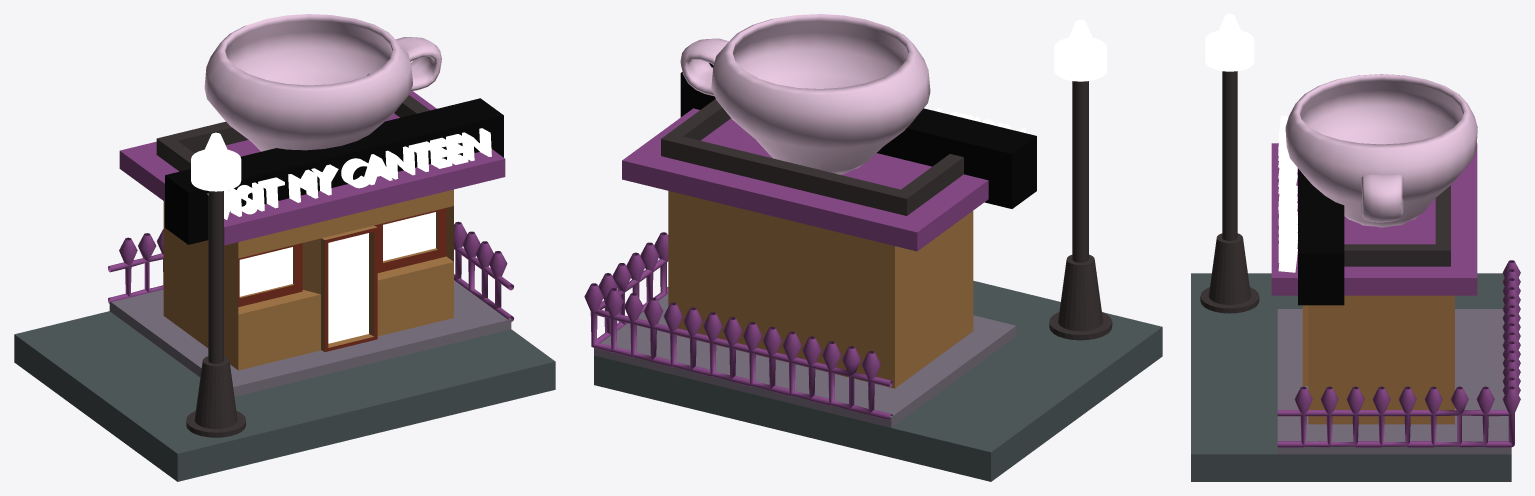
The model's file is canteenShow.gltf.
3 views of the same model, side by side, from view 1: azimuth 30°, elevation 25°; view 2: azimuth 150°, elevation 25°; view 3: azimuth 270°, elevation 25° (orthographic). The views are drawn at different scales.
Parts seen in each view (by area): view 1: Plane, Plane.003, Circle, Cube, Plane.002, Plane.004, Plane.008, Text, Plane.007, Plane.006, Circle.001; view 2: Plane.003, Plane, Circle, Plane.004, Plane.007, Plane.002, Plane.006, Plane.008, Cube, Circle.001; view 3: Plane, Circle, Plane.003, Plane.002, Plane.004, Plane.007, Plane.008, Cube, Plane.006, Text, Circle.001.
Boxes of the visible parts, box(x1,y1,x2,y2) form: Plane: box(14, 311, 555, 481); Plane.003: box(163, 189, 453, 370); Circle: box(204, 14, 412, 151); Cube: box(165, 98, 503, 244); Plane.002: box(109, 280, 511, 396); Plane.004: box(119, 91, 505, 245); Plane.008: box(186, 132, 245, 437); Text: box(207, 128, 491, 219); Plane.007: box(108, 221, 513, 321); Plane.006: box(156, 95, 429, 171); Circle.001: box(367, 37, 441, 91); Plane.003: box(668, 191, 973, 388); Plane: box(594, 280, 1162, 481); Circle: box(711, 14, 930, 174); Plane.004: box(622, 108, 988, 251); Plane.007: box(584, 232, 892, 420); Plane.002: box(594, 294, 1016, 427); Plane.006: box(661, 99, 963, 215); Plane.008: box(1049, 20, 1112, 340); Cube: box(680, 63, 1036, 208); Circle.001: box(680, 38, 757, 96); Plane: box(1191, 273, 1511, 481); Circle: box(1285, 74, 1477, 227); Plane.003: box(1302, 295, 1454, 424); Plane.002: box(1277, 309, 1511, 454); Plane.004: box(1271, 143, 1477, 295); Plane.007: box(1277, 260, 1520, 447); Plane.008: box(1200, 14, 1259, 313); Cube: box(1298, 168, 1344, 305); Plane.006: box(1344, 185, 1450, 266); Text: box(1278, 115, 1297, 272); Circle.001: box(1361, 174, 1403, 222).
Size of the model in its own units: 8.3 by 6.55 by 6.26.
